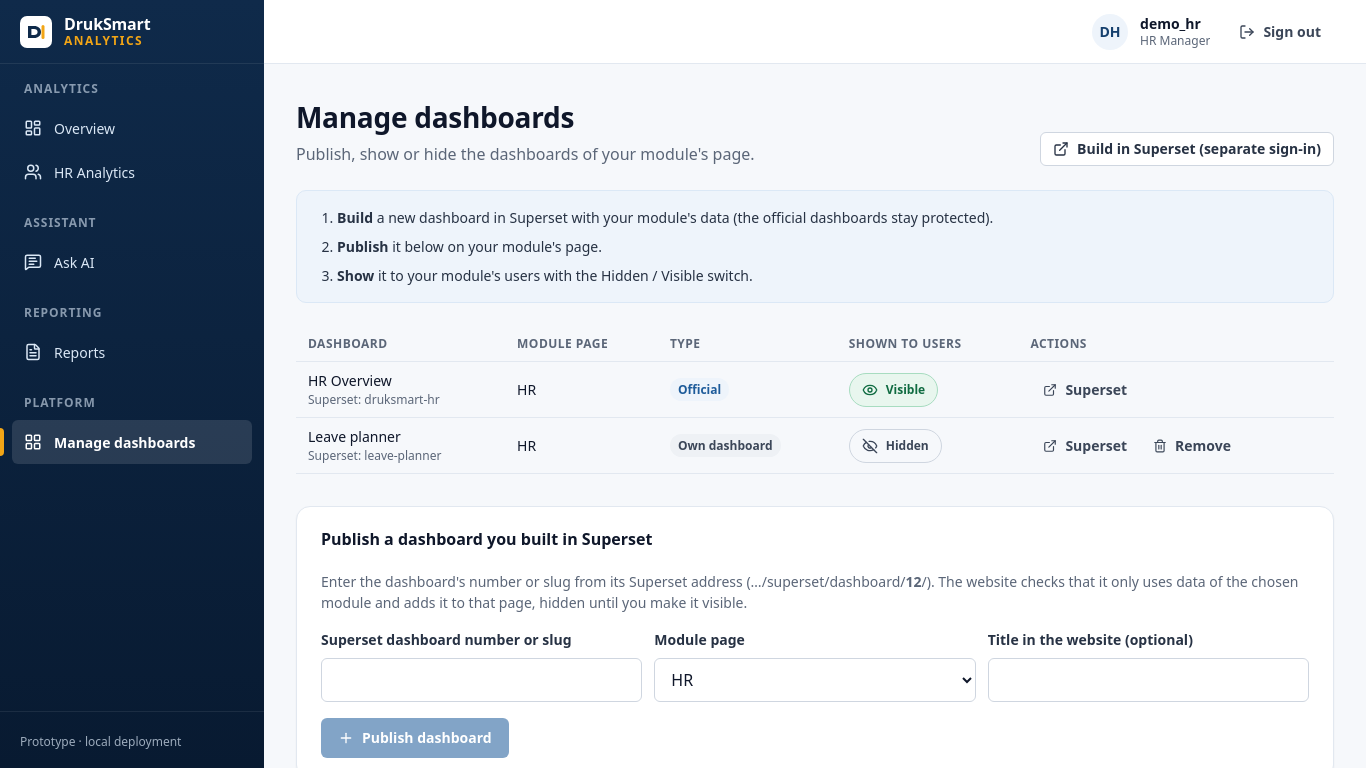
Test: Manage dashboards (ADR-044) › publishes a manager's dashboard and shows the backend's refusal
Type "creator-mixed" into the field labelled "Superset dashboard number or slug".
click(482, 680); type("creator-mixed")  # box top-left (321, 658), bottom-right (642, 702)
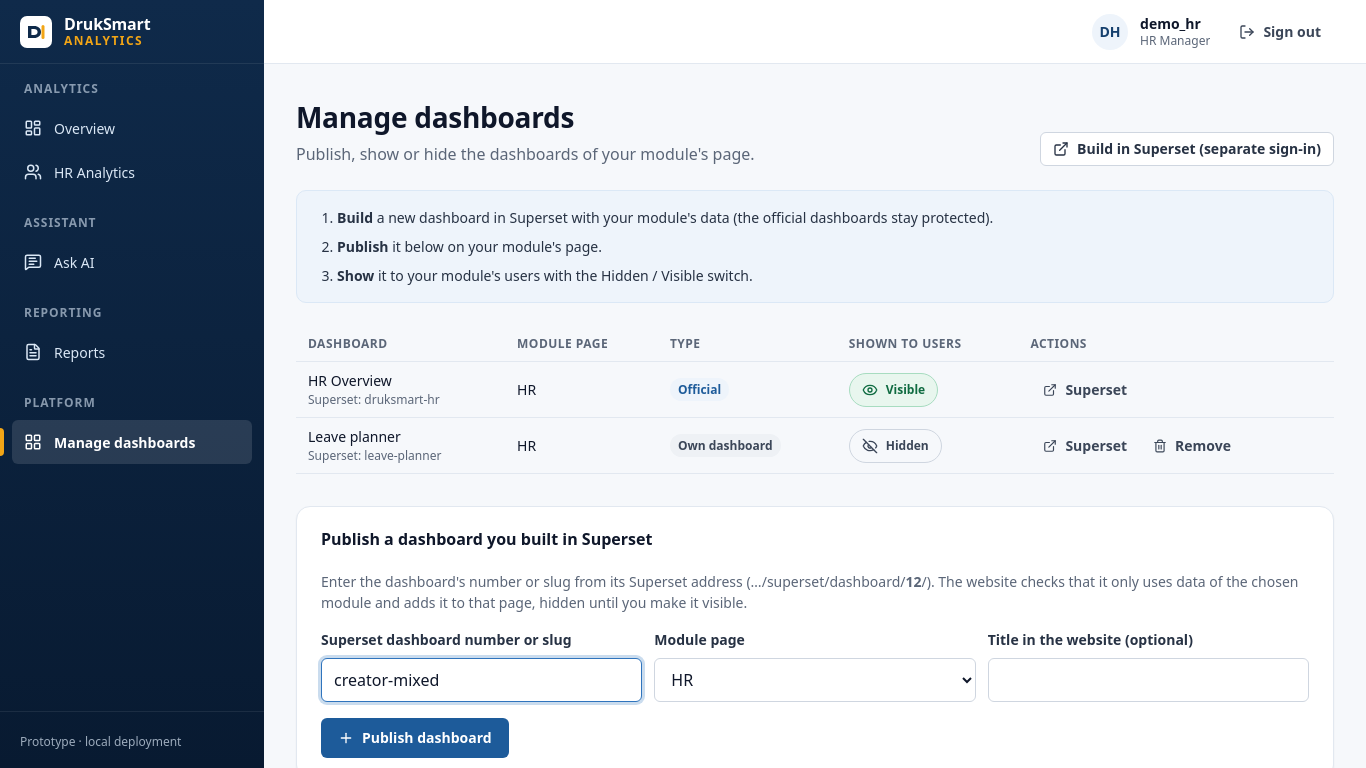
Click the button "Publish dashboard".
click(415, 738)  # box top-left (321, 718), bottom-right (509, 758)
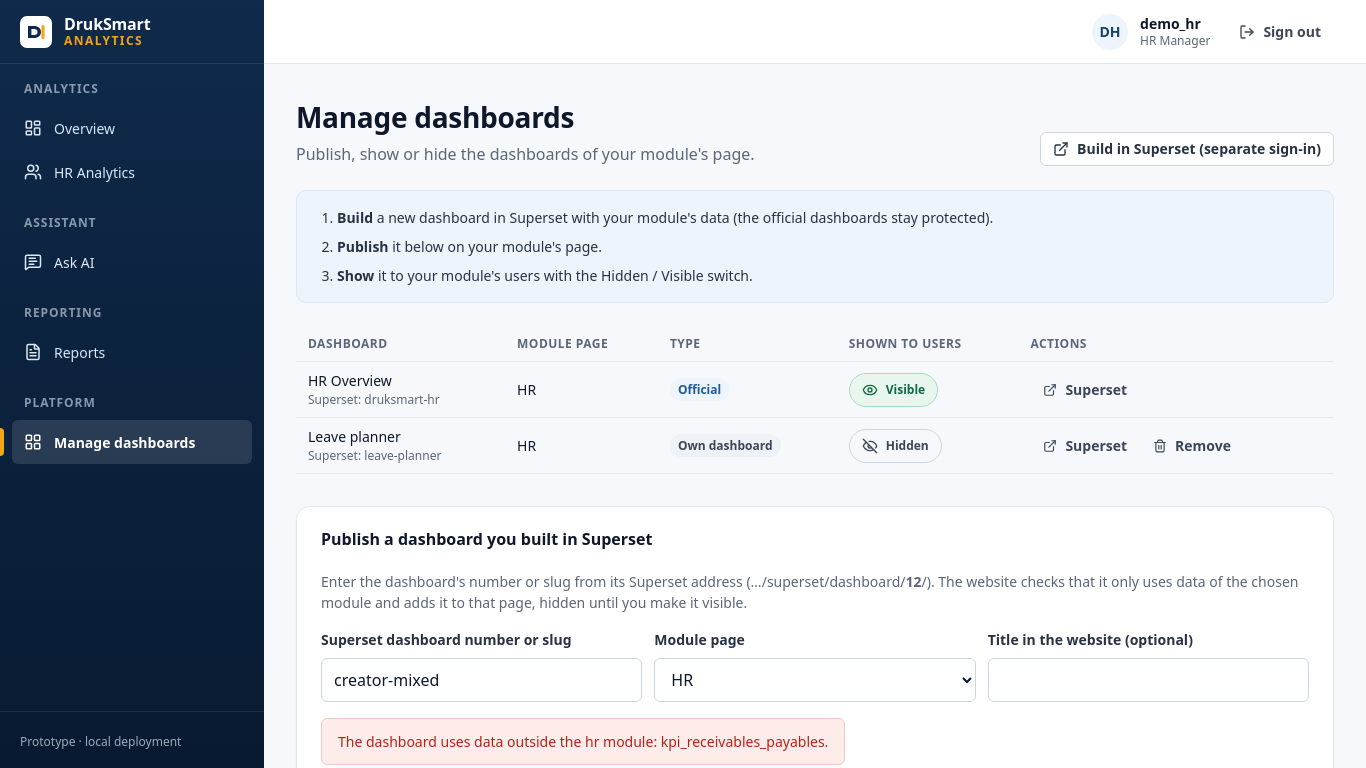
Now the text "The dashboard uses data outside the hr module: kpi_receivables_payables." is shown, box top-left (321, 718), bottom-right (845, 765)
